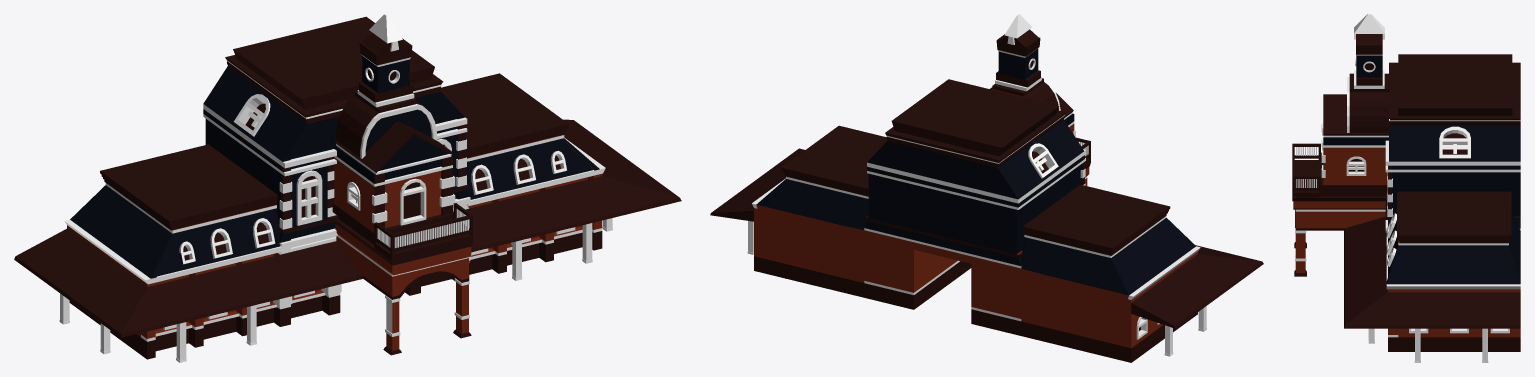
The model's file is keelung_V2.fbx.
The picture shows the model from 3 angles, left to right: view 1: azimuth 30°, elevation 25°; view 2: azimuth 150°, elevation 25°; view 3: azimuth 270°, elevation 25°; orthographic projection. The views are drawn at different scales.
Parts seen in each view (by area): view 1: 04; view 2: 04; view 3: 04.
Boxes of the visible parts, <box> form: 04: <box>14,14,681,362</box>; 04: <box>710,14,1263,362</box>; 04: <box>1292,14,1520,362</box>.
Size of the model in its own units: 2122 by 1075 by 904.
